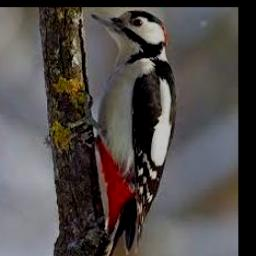Woodpecker: (74, 10, 177, 256)
